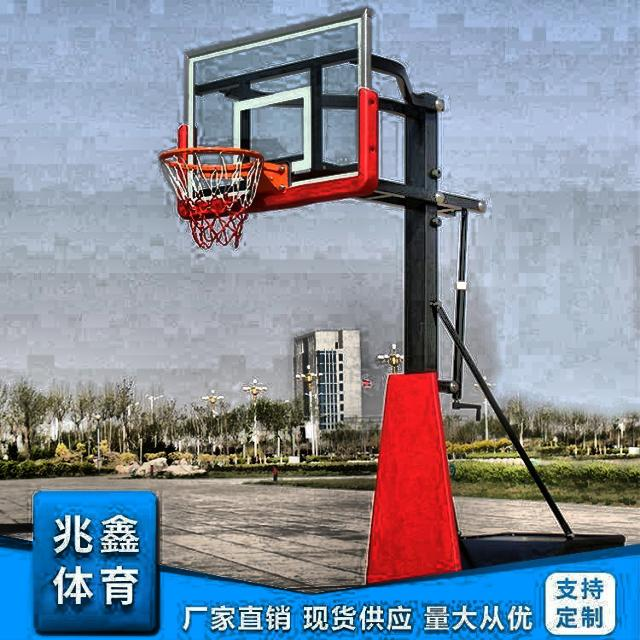rim: (161, 146, 264, 246)
